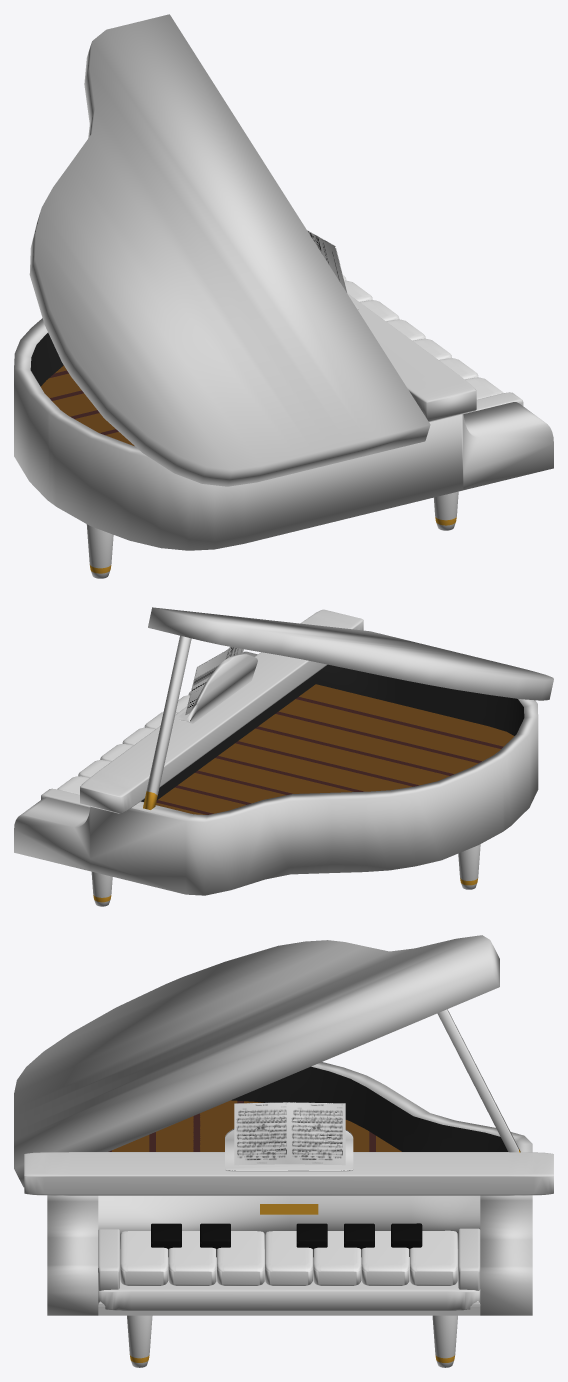
3 views of the same model, one above another, from view 1: azimuth 30°, elevation 25°; view 2: azimuth 150°, elevation 25°; view 3: azimuth 270°, elevation 25° (orthographic). The views are drawn at different scales.
Visible parts, largest first — view 1: CoverSmall_9, MainFrameSmall_8, Top_7, Feet.001_6, Feet.002_5; view 2: MainFrameSmall_8, CoverSmall_9, Top_7, Plane.004_26, Plane_22, Plane.006_28, Plane.008_30, Plane.010_32, SheetHolder_1, Plane.012_34, Plane.014_36, Plane.016_38 (+10 smaller); view 3: CoverSmall_9, MainFrameSmall_8, Top_7, KeyboardSupport_0, Sheet_2, White.006_16, White.002_12, White_11, White.003_13, White.001_10, White.004_14, White.005_15 (+11 smaller).
Boxes of the visible parts, x1=… form: CoverSmall_9: x1=29, y1=14, x2=430, y2=486; MainFrameSmall_8: x1=14, y1=318, x2=553, y2=550; Top_7: x1=347, y1=293, x2=476, y2=422; Feet.001_6: x1=86, y1=524, x2=113, y2=578; Feet.002_5: x1=434, y1=491, x2=458, y2=530; MainFrameSmall_8: x1=14, y1=651, x2=538, y2=895; CoverSmall_9: x1=143, y1=607, x2=553, y2=809; Top_7: x1=80, y1=609, x2=363, y2=813; Plane.004_26: x1=279, y1=699, x2=500, y2=761; Plane_22: x1=299, y1=684, x2=514, y2=746; Plane.006_28: x1=258, y1=714, x2=477, y2=774; Plane.008_30: x1=238, y1=728, x2=449, y2=785; Plane.010_32: x1=218, y1=743, x2=412, y2=791; SheetHolder_1: x1=178, y1=654, x2=257, y2=723; Plane.012_34: x1=198, y1=758, x2=353, y2=793; Plane.014_36: x1=178, y1=773, x2=286, y2=803; Plane.016_38: x1=158, y1=787, x2=245, y2=813; CoverSmall_9: x1=14, y1=935, x2=520, y2=1187; MainFrameSmall_8: x1=47, y1=1062, x2=532, y2=1315; Top_7: x1=24, y1=1152, x2=553, y2=1195; KeyboardSupport_0: x1=98, y1=1228, x2=480, y2=1310; Sheet_2: x1=234, y1=1102, x2=345, y2=1165; White.006_16: x1=410, y1=1230, x2=457, y2=1285; White.002_12: x1=217, y1=1231, x2=264, y2=1285; White_11: x1=120, y1=1231, x2=168, y2=1285; White.003_13: x1=265, y1=1231, x2=312, y2=1285; White.001_10: x1=168, y1=1231, x2=216, y2=1285; White.004_14: x1=313, y1=1231, x2=361, y2=1285; White.005_15: x1=361, y1=1231, x2=409, y2=1285.
Size of the model in its own units: 6.95 by 6.31 by 8.61.
10 materials, 2 textured.
